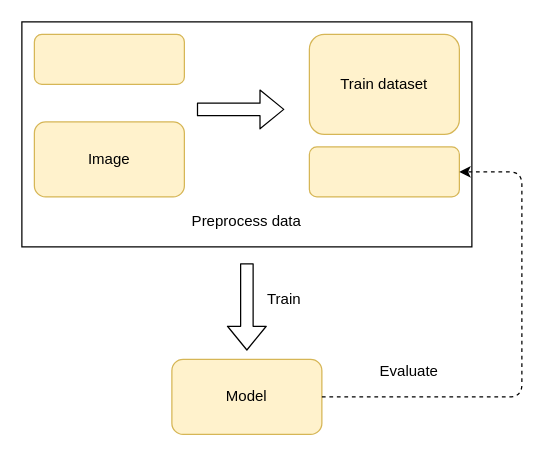
The diagram is 554 pixels wide and 456 high, and some of its shapes have lost their labels. The shapes that lost their labels are listed below. From the top down, each one's centre as x and y in pixels, then its label:
pixel 108 58: Label
pixel 383 171: Test dataset
